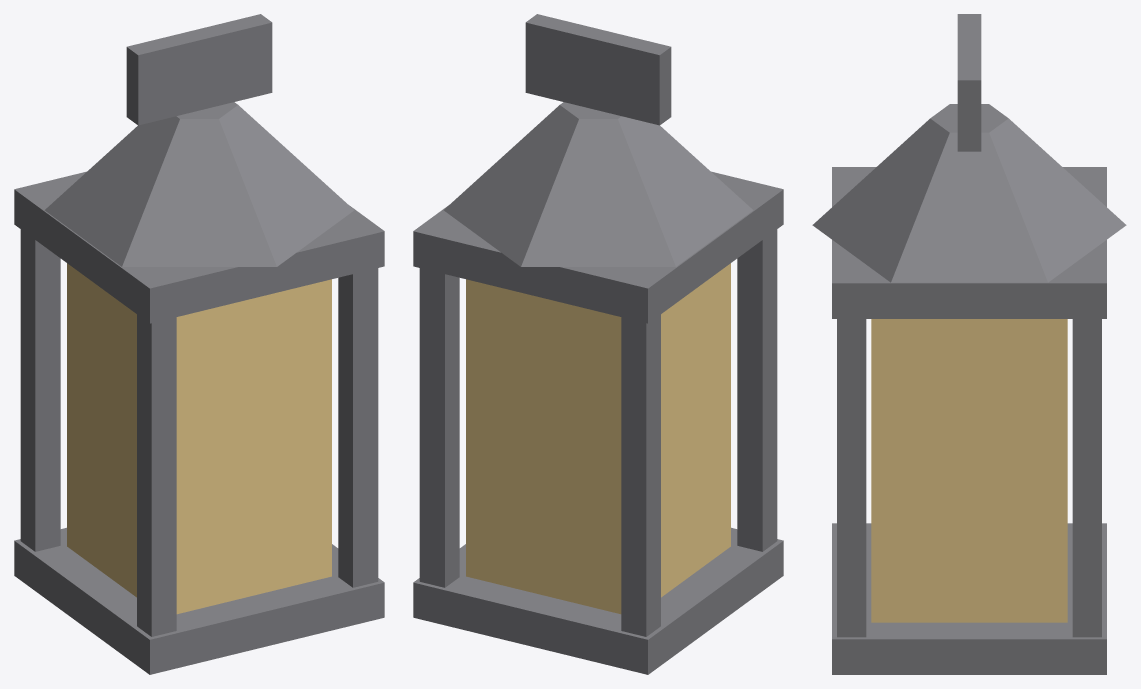
The model's file is prop-lantern-mine.fbx.
3 views of the same model, side by side, from view 1: azimuth 30°, elevation 25°; view 2: azimuth 150°, elevation 25°; view 3: azimuth 270°, elevation 25° (orthographic).
Parts seen in each view (by area): view 1: prop-lantern-mine; view 2: prop-lantern-mine; view 3: prop-lantern-mine.
Part boxes in pixels (x1,y1,x2,y2): prop-lantern-mine: (14, 14, 384, 674); prop-lantern-mine: (413, 14, 783, 674); prop-lantern-mine: (812, 14, 1126, 674).
Size of the model in its own units: 14 by 32 by 16.
